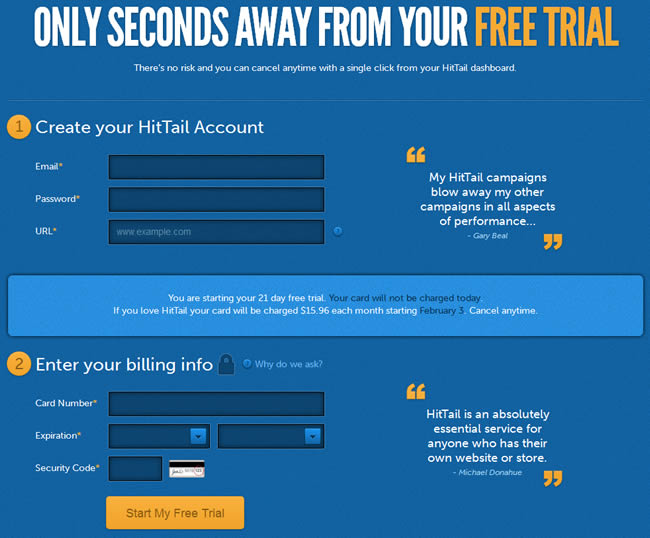_form_: (1, 121, 416, 538)
button: (105, 495, 244, 530)
field: (106, 219, 325, 245), (108, 154, 326, 180), (107, 187, 325, 213), (107, 391, 325, 417), (106, 454, 163, 482)
field_with_label: (33, 153, 328, 181), (35, 217, 328, 245), (32, 390, 325, 418), (35, 186, 327, 213), (34, 422, 212, 450), (33, 454, 165, 482)
select: (217, 423, 325, 450), (108, 423, 211, 449)
